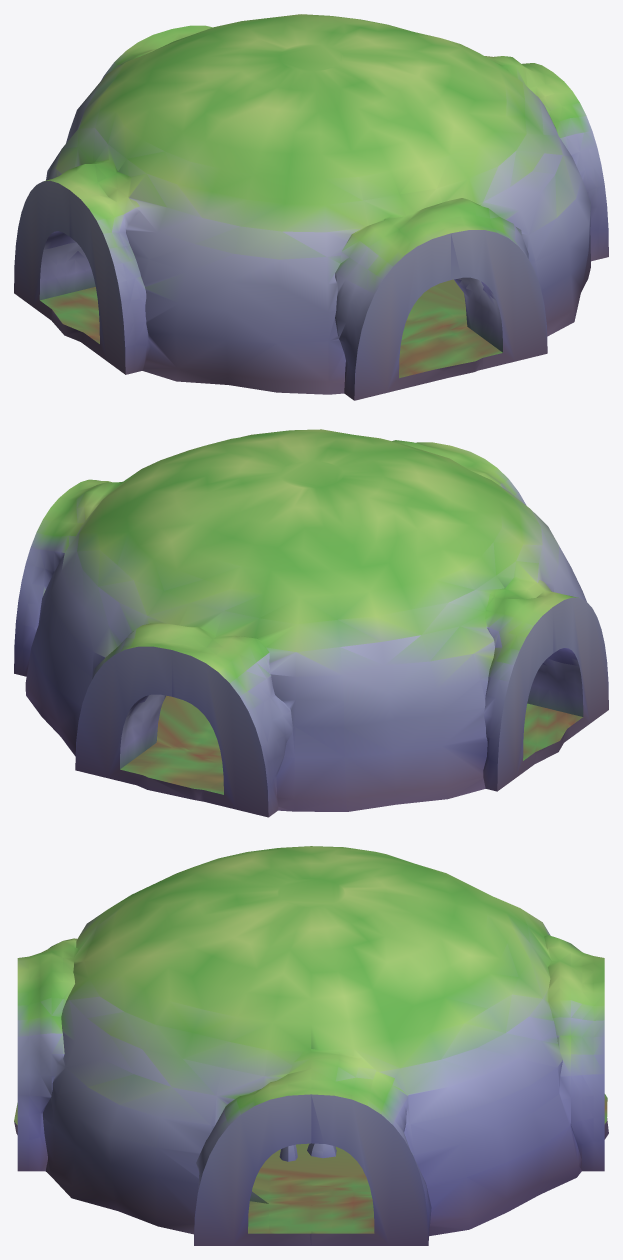
Rendered from verdant_cave_chamber.glb.
The picture shows the model from 3 angles, top to bottom: view 1: azimuth 30°, elevation 25°; view 2: azimuth 150°, elevation 25°; view 3: azimuth 270°, elevation 25°; orthographic projection. The views are drawn at different scales.
Parts seen in each view (by area): view 1: verdant_cave_chamber; view 2: verdant_cave_chamber; view 3: verdant_cave_chamber.
Boxes of the visible parts, bbox=[...] form: verdant_cave_chamber: bbox=[14, 14, 608, 400]; verdant_cave_chamber: bbox=[14, 429, 608, 817]; verdant_cave_chamber: bbox=[14, 846, 608, 1245].
Size of the model in its own units: 26.37 by 11.18 by 26.35.
